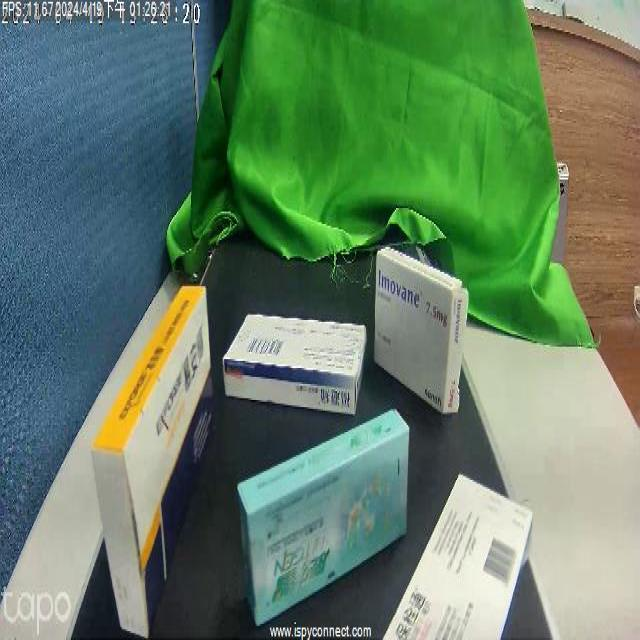box: (92, 299, 210, 611), (227, 428, 407, 598), (401, 503, 522, 640), (228, 315, 370, 424), (366, 259, 460, 414)
